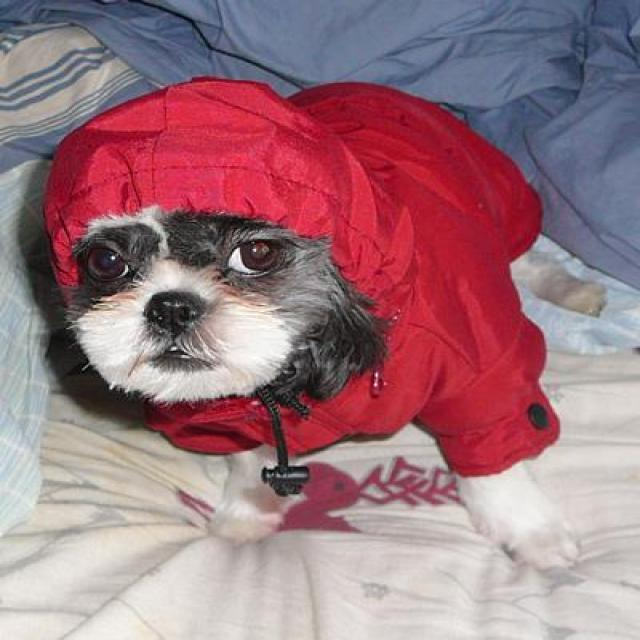shih_tzu: (31, 80, 606, 574)
